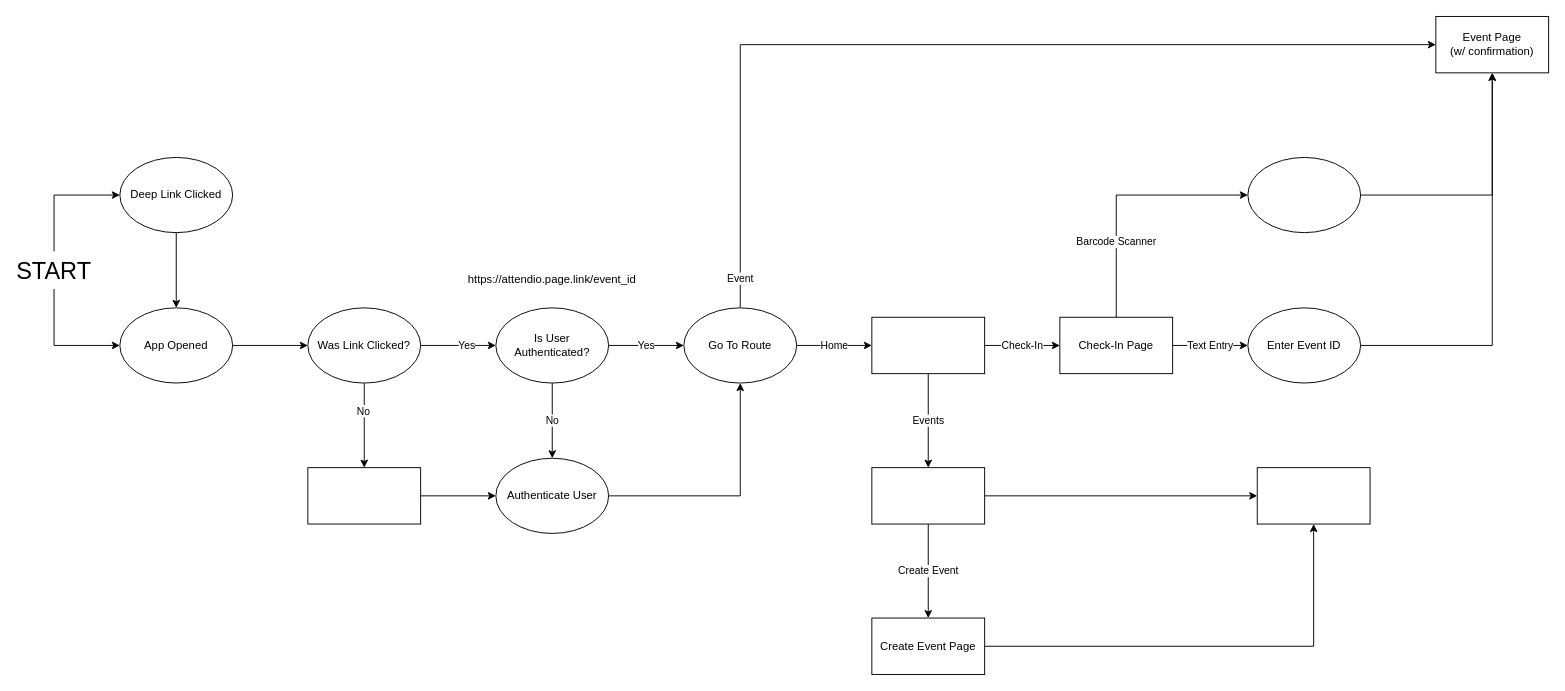
The diagram is 1565 pixels wide and 691 high, and some of its shapes have lost their labels. The shapes that lost their labels are listed below. From the top down, each one's centre as x and y in pixels, then its label:
At [1304,195]: "Scan QR Code".
At [928,345]: "Home Page".
At [364,495]: "Login Page".
At [928,495]: "Event List".
At [1313,495]: "Event Host Page".
